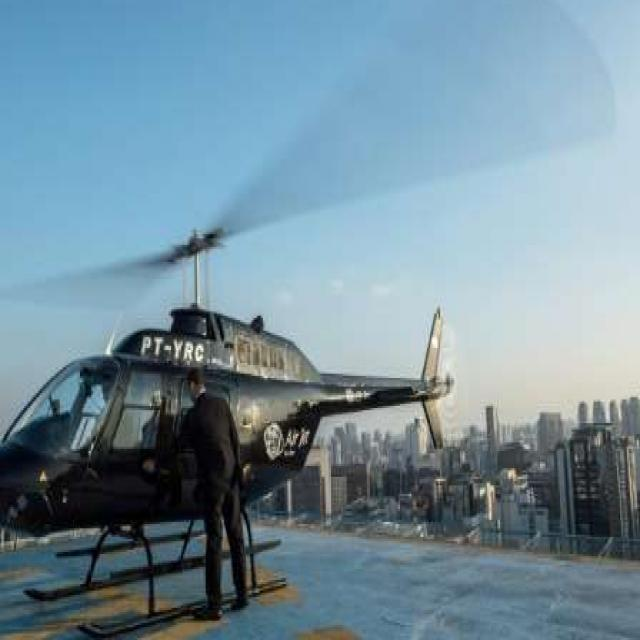helicopter: (1, 229, 461, 637)
